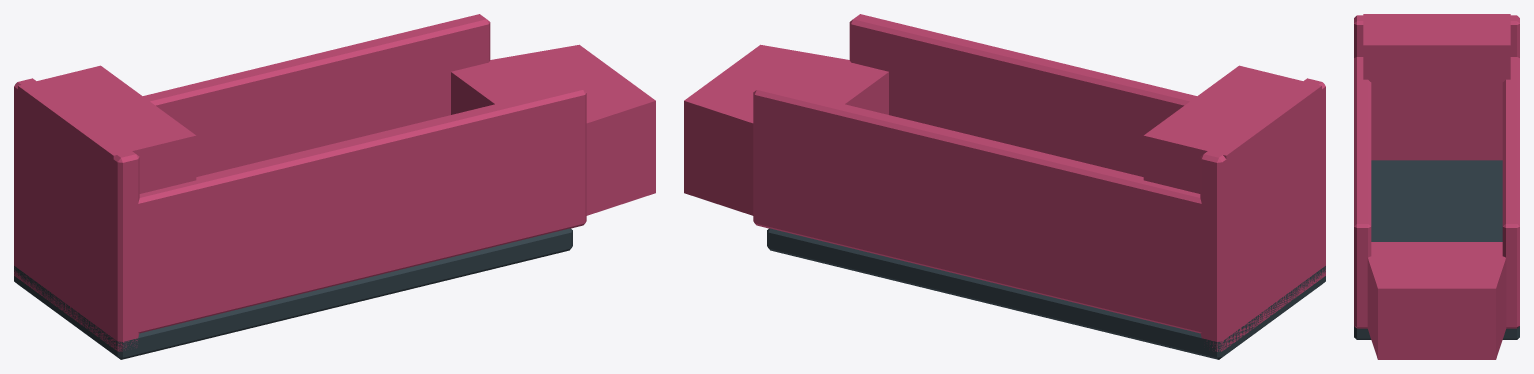
The model's file is placeholder-rear-car-shell.glb.
The picture shows the model from 3 angles, left to right: view 1: azimuth 30°, elevation 25°; view 2: azimuth 150°, elevation 25°; view 3: azimuth 270°, elevation 25°; orthographic projection. The views are drawn at different scales.
Parts seen in each view (by area): view 1: QUANTUM_Placeholder_Rear_Car_Shell; view 2: QUANTUM_Placeholder_Rear_Car_Shell; view 3: QUANTUM_Placeholder_Rear_Car_Shell.
Part boxes in pixels (x1,y1,x2,y2): QUANTUM_Placeholder_Rear_Car_Shell: (14, 14, 655, 359); QUANTUM_Placeholder_Rear_Car_Shell: (684, 14, 1325, 359); QUANTUM_Placeholder_Rear_Car_Shell: (1354, 14, 1519, 359).
Size of the model in its own units: 4 by 1.4 by 1.35.
